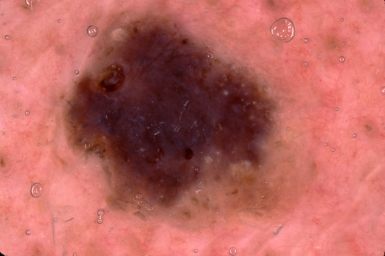seborrheic keratosis: (63, 6, 290, 225)
